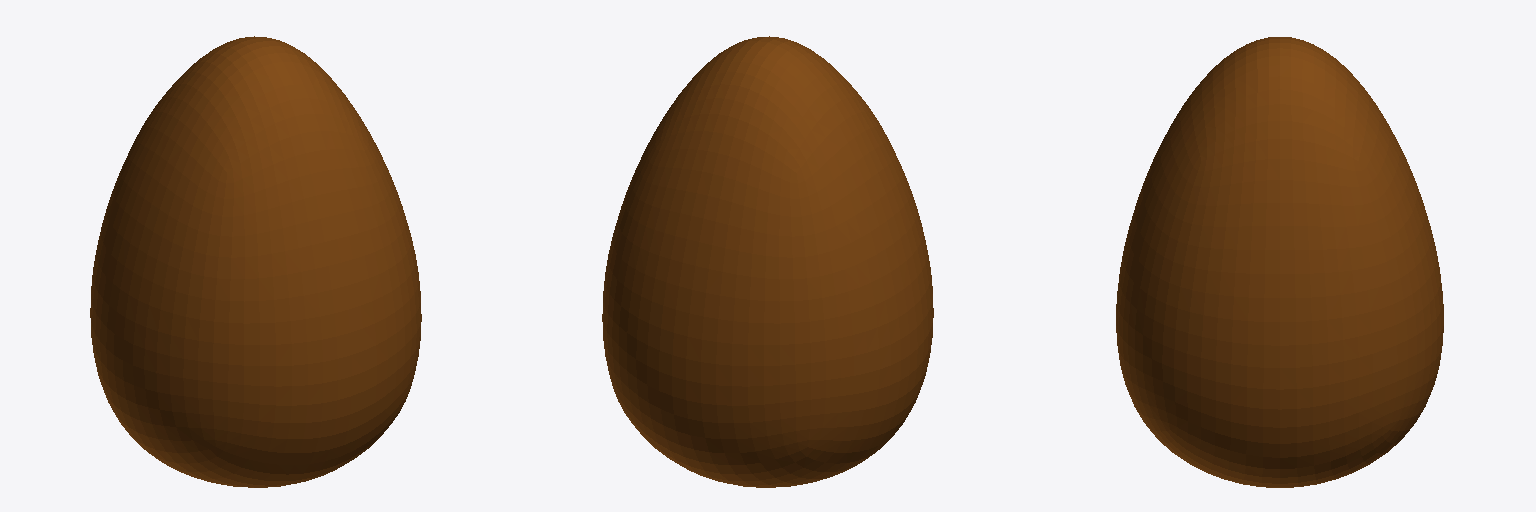
The model's file is Egg01.obj.
The picture shows the model from 3 angles: view 1: azimuth 30°, elevation 25°; view 2: azimuth 150°, elevation 25°; view 3: azimuth 270°, elevation 25°; orthographic projection.
Parts seen in each view (by area): view 1: Egg01_Cube.001; view 2: Egg01_Cube.001; view 3: Egg01_Cube.001.
Part boxes in pixels (x1,y1,x2,y2): Egg01_Cube.001: (90,36,421,487); Egg01_Cube.001: (602,36,933,487); Egg01_Cube.001: (1116,37,1443,487).
Bounding box in the file's own units: 1.46 × 2.09 × 1.46.